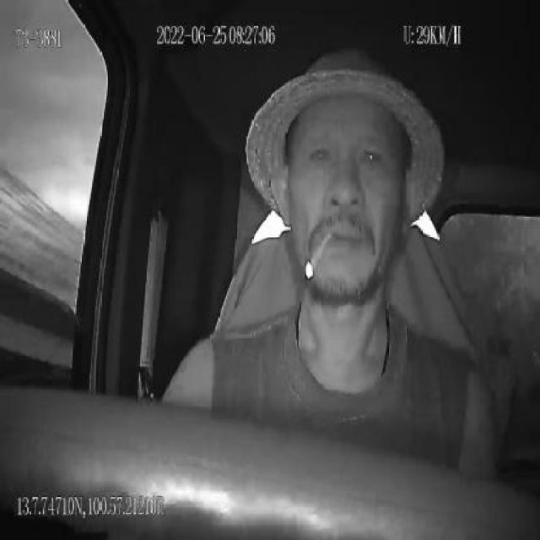smoking: (305, 227, 335, 277)
